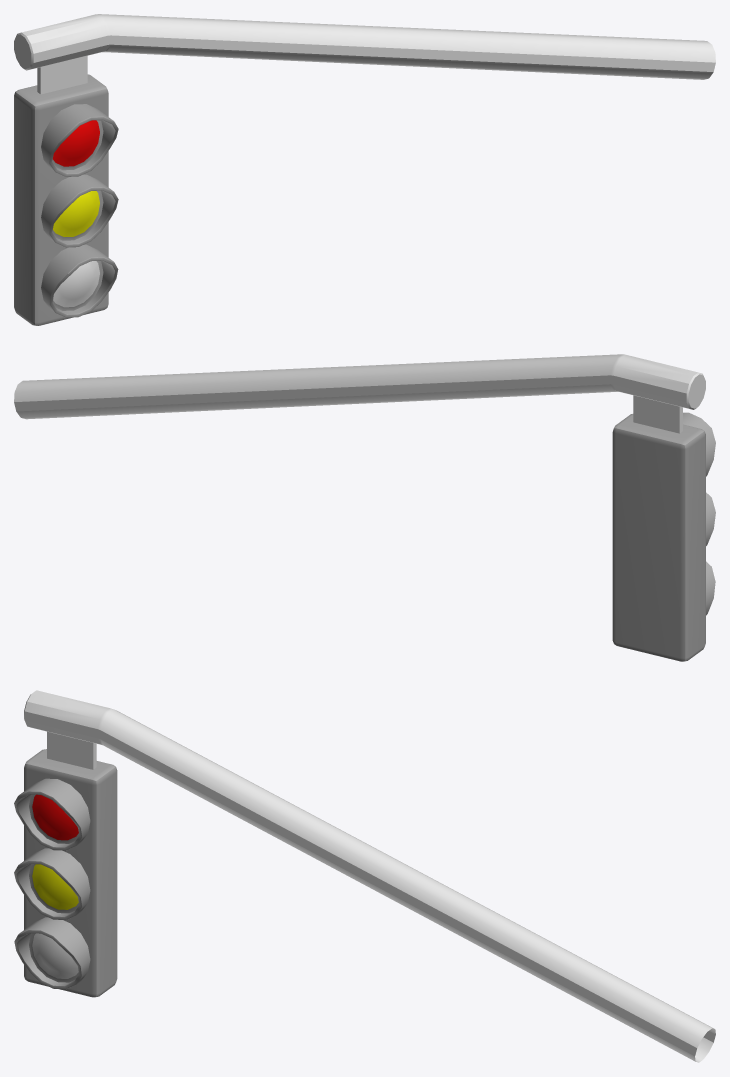
The model's file is Prop_LightTraffic.fbx.
3 views of the same model, one above another, from view 1: azimuth 30°, elevation 25°; view 2: azimuth 150°, elevation 25°; view 3: azimuth 330°, elevation 25° (orthographic).
Parts seen in each view (by area): view 1: Prop_LightTraffic; view 2: Prop_LightTraffic; view 3: Prop_LightTraffic.
Part boxes in pixels (<box>): Prop_LightTraffic: <box>14,14,715,325</box>; Prop_LightTraffic: <box>14,354,715,661</box>; Prop_LightTraffic: <box>14,690,715,1062</box>.
Bounding box in the file's own units: 4.04 × 1.61 × 0.4246.
